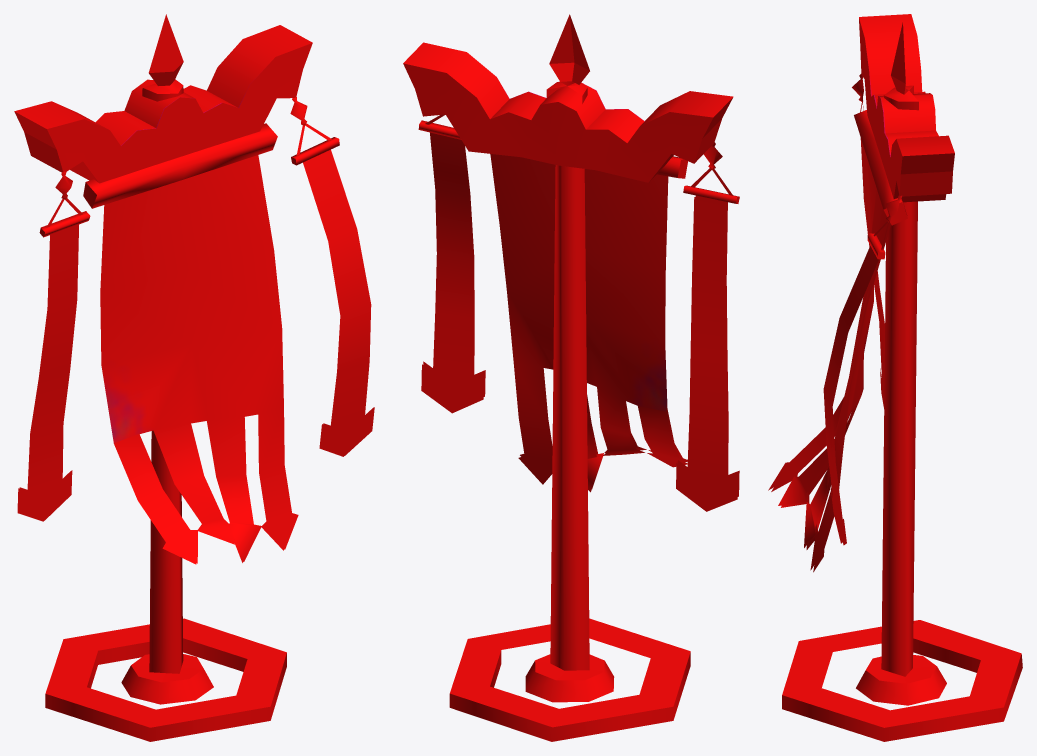
Rendered from qizi.FBX.
3 views of the same model, side by side, from view 1: azimuth 30°, elevation 25°; view 2: azimuth 150°, elevation 25°; view 3: azimuth 270°, elevation 25° (orthographic).
Visible parts, largest first — view 1: Object018; view 2: Object018; view 3: Object018.
Part boxes in pixels (box(x1,y1,x2,y2)): Object018: box(14, 14, 374, 741); Object018: box(403, 14, 739, 741); Object018: box(768, 14, 1022, 741).
Size of the model in its own units: 119 by 229 by 79.24.
